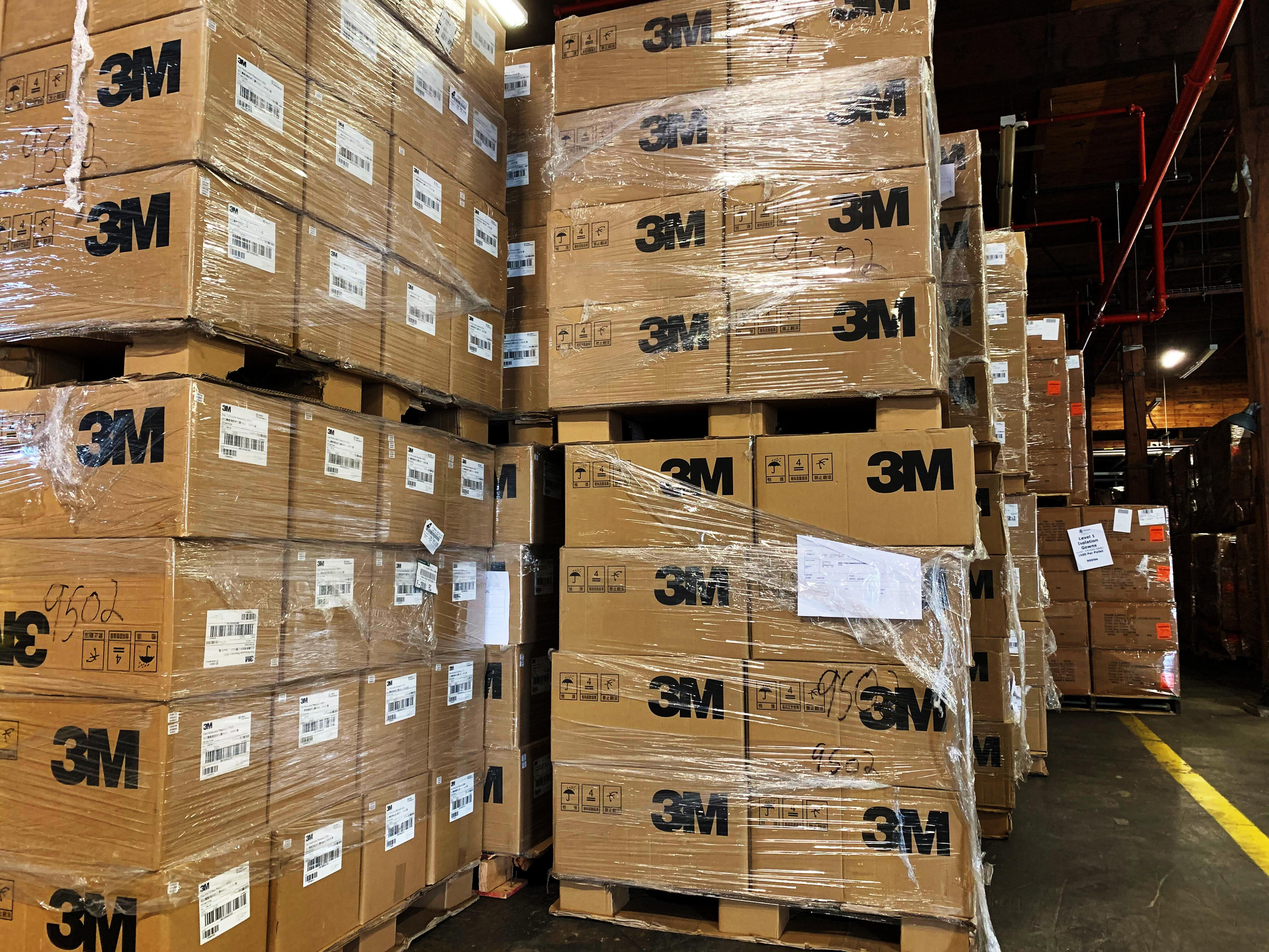Box: (0, 164, 297, 350), (0, 689, 270, 870), (0, 538, 285, 702), (0, 377, 290, 538), (82, 10, 305, 208), (0, 831, 270, 952), (749, 776, 974, 917), (749, 536, 972, 677), (724, 57, 937, 183), (729, 278, 947, 399), (746, 662, 952, 788), (756, 429, 979, 545), (553, 761, 749, 890), (724, 166, 939, 280), (550, 652, 746, 774), (540, 89, 726, 208), (548, 293, 729, 409), (560, 548, 749, 659), (545, 191, 724, 307), (392, 30, 506, 211), (565, 439, 753, 548), (555, 0, 729, 114), (726, 0, 934, 84), (268, 801, 362, 952), (305, 84, 389, 248), (295, 216, 382, 372), (270, 674, 359, 826), (288, 402, 379, 543), (285, 543, 372, 679), (307, 0, 397, 129), (0, 42, 72, 188), (389, 139, 463, 280), (359, 774, 429, 922), (377, 421, 456, 545), (382, 258, 454, 394), (357, 664, 431, 791), (369, 545, 436, 667), (483, 739, 553, 855), (426, 751, 486, 885), (483, 642, 553, 749), (486, 543, 558, 645), (493, 444, 565, 545), (429, 650, 486, 769), (449, 295, 506, 412), (456, 188, 508, 310), (382, 0, 471, 69), (436, 545, 491, 652), (444, 436, 493, 548), (506, 124, 553, 231), (463, 0, 506, 114), (503, 307, 548, 414), (506, 45, 555, 136), (1081, 506, 1170, 555), (1086, 553, 1175, 602), (1088, 602, 1177, 650), (947, 357, 996, 444), (1091, 650, 1180, 697), (972, 721, 1016, 811), (969, 637, 1014, 724), (969, 555, 1016, 637), (939, 206, 986, 285), (508, 226, 548, 310), (939, 129, 981, 208), (942, 285, 986, 359), (984, 228, 1026, 293), (986, 290, 1026, 355), (977, 474, 1009, 555), (1014, 558, 1051, 620), (991, 352, 1029, 412), (1038, 555, 1086, 602), (1004, 493, 1038, 558), (1026, 449, 1073, 496), (1036, 506, 1081, 555), (996, 409, 1029, 474), (1046, 600, 1091, 647), (1026, 404, 1071, 449), (1048, 647, 1091, 694), (1029, 357, 1068, 407), (1026, 312, 1066, 359), (1024, 687, 1048, 756), (1021, 622, 1046, 687), (1068, 466, 1091, 506), (1066, 350, 1086, 392), (1071, 384, 1086, 429), (1071, 429, 1088, 466)
